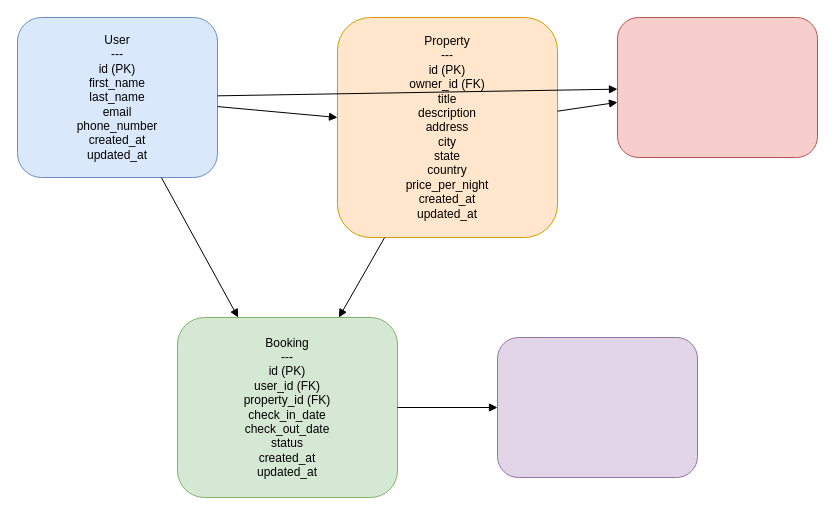
Image size: 835x515. Some labels were removed from this diagram. The shapes that lost their labels are listed below. From the top down, each one's centre as x and y in pixels, then its label:
At point 717,87: "Review --- id (PK) user_id (FK) property_id (FK) rating comment created_at".
At point 597,407: "Payment --- id (PK) booking_id (FK) amount payment_date status".
